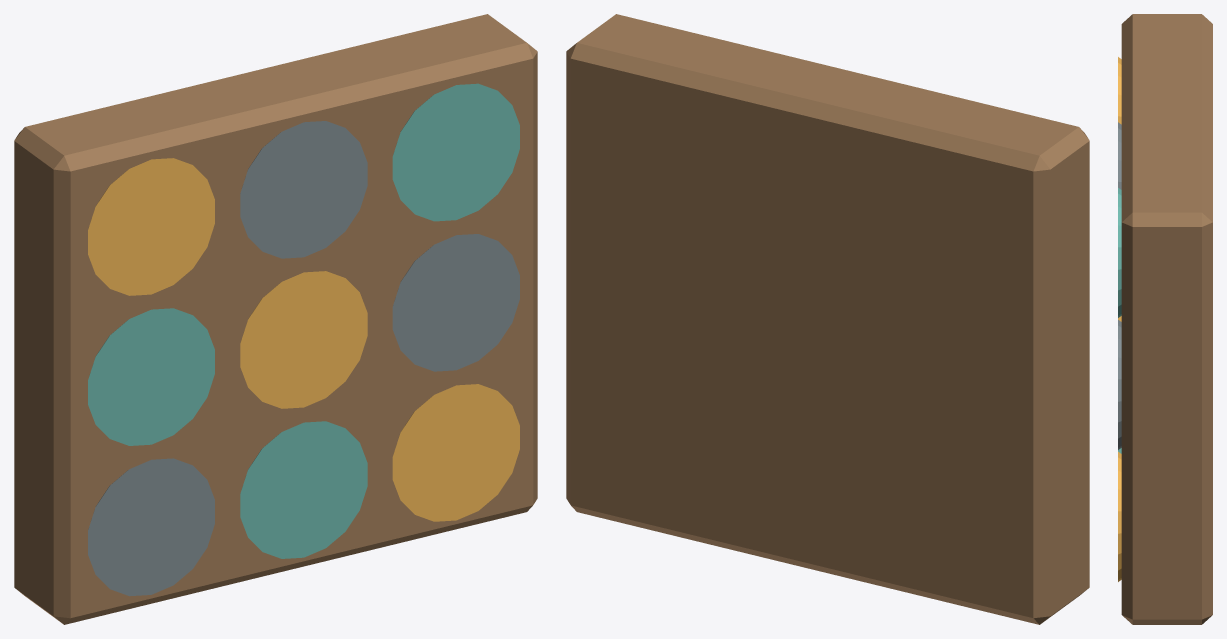
File: CC_CapWall.fbx
3 views of the same model, side by side, from view 1: azimuth 30°, elevation 25°; view 2: azimuth 150°, elevation 25°; view 3: azimuth 270°, elevation 25° (orthographic). The views are drawn at different scales.
Parts seen in each view (by area): view 1: Earth core, Bottle cap.005, Bottle cap.002, Bottle cap.001, Bottle cap.004, Bottle cap.008, Bottle cap.003, Bottle cap.007, Bottle cap.006, Bottle cap; view 2: Earth core; view 3: Earth core, Bottle cap.002, Bottle cap.005, Bottle cap.008, Bottle cap.006, Bottle cap.007.
Boxes of the visible parts, x1,y1,x2,y2 form: Earth core: (14,14,537,624); Bottle cap.005: (392,234,519,371); Bottle cap.002: (392,384,519,521); Bottle cap.001: (240,421,367,558); Bottle cap.004: (240,271,367,408); Bottle cap.008: (392,83,519,221); Bottle cap.003: (88,308,214,445); Bottle cap.007: (240,121,367,258); Bottle cap.006: (88,158,214,295); Bottle cap: (88,458,214,596); Earth core: (566,14,1089,624); Earth core: (1121,14,1212,624); Bottle cap.002: (1118,452,1121,581); Bottle cap.005: (1118,320,1121,449); Bottle cap.008: (1118,188,1121,317); Bottle cap.006: (1118,57,1121,124); Bottle cap.007: (1118,122,1121,189).
Bounding box in the file's own units: 2.7 × 2.5 × 0.52.
